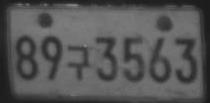3: (174, 38, 197, 84), (95, 36, 118, 80)
5: (123, 37, 145, 82)
6: (148, 36, 171, 83)
8: (15, 34, 38, 80)
9: (41, 34, 62, 79)
구: (66, 44, 90, 81)
